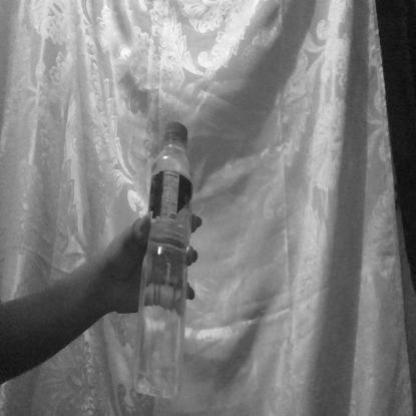Plastic Bottle: (132, 103, 200, 408)
